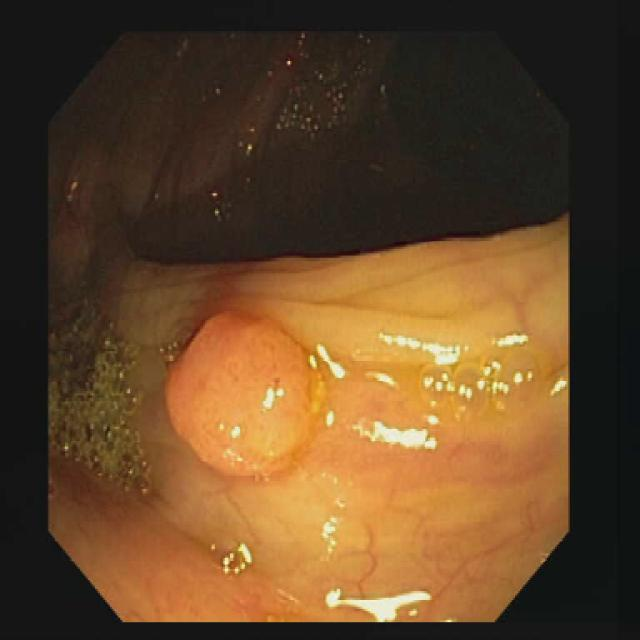tumor: (165, 311, 325, 478)
